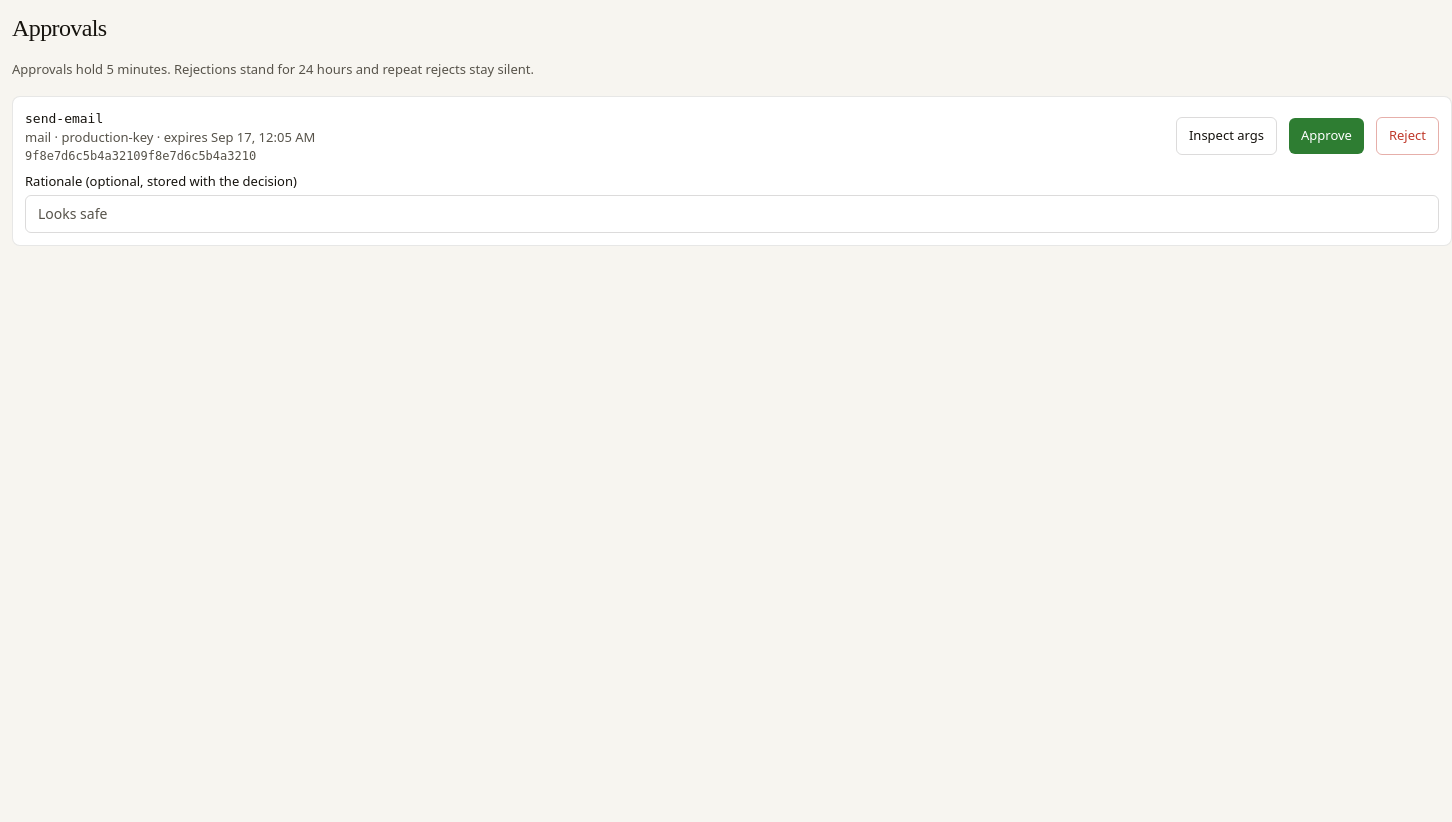
Test: ApprovalsPage › omits decidedBy for anonymous sessions
What coordinates should you click on to do the following:
click the button "Approve"
I would click on:
 (1326, 136)
Its box is [1289, 118, 1364, 154].
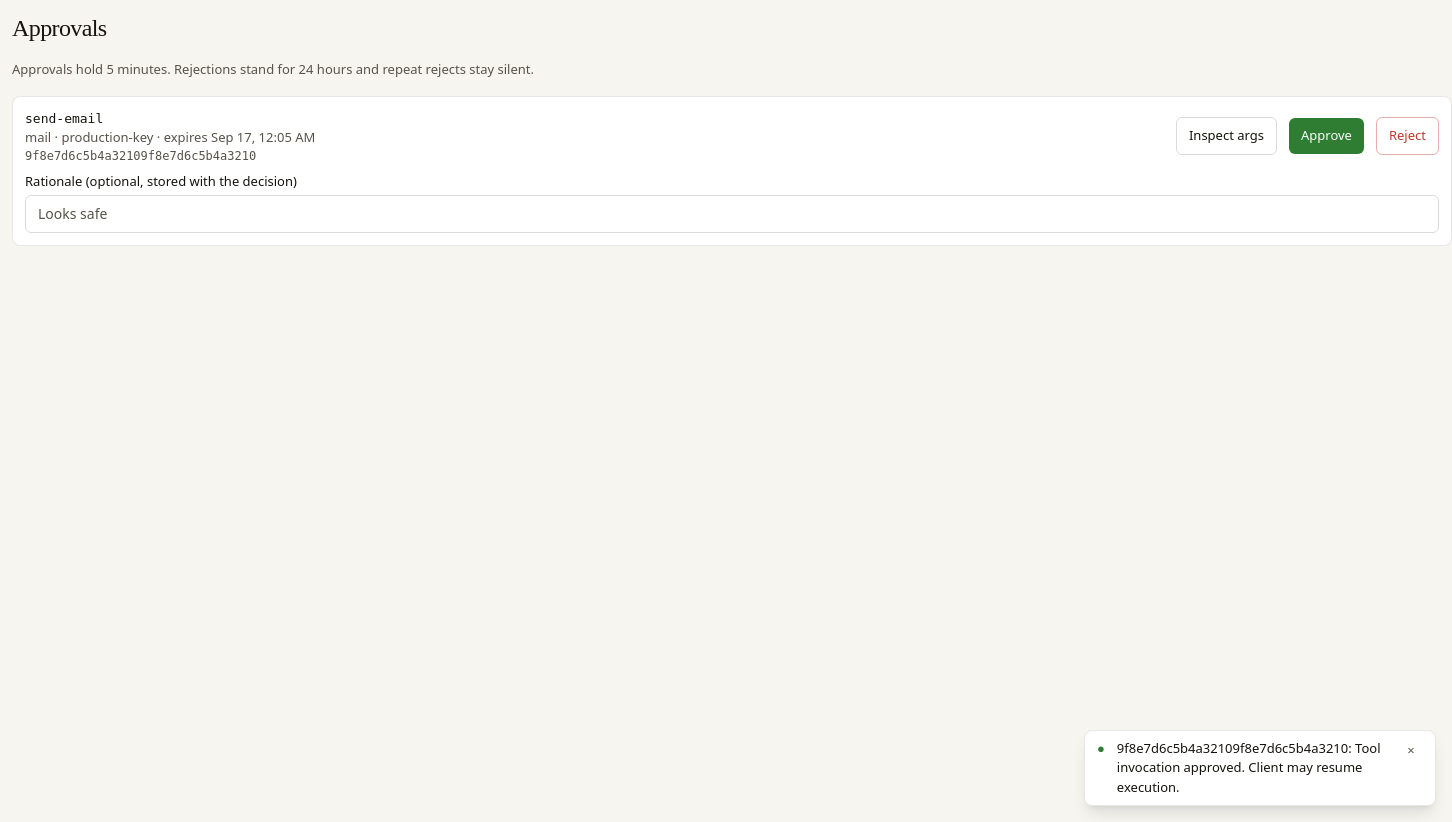
Now the text "client may resume execution" is shown, box [1117, 738, 1380, 796]
